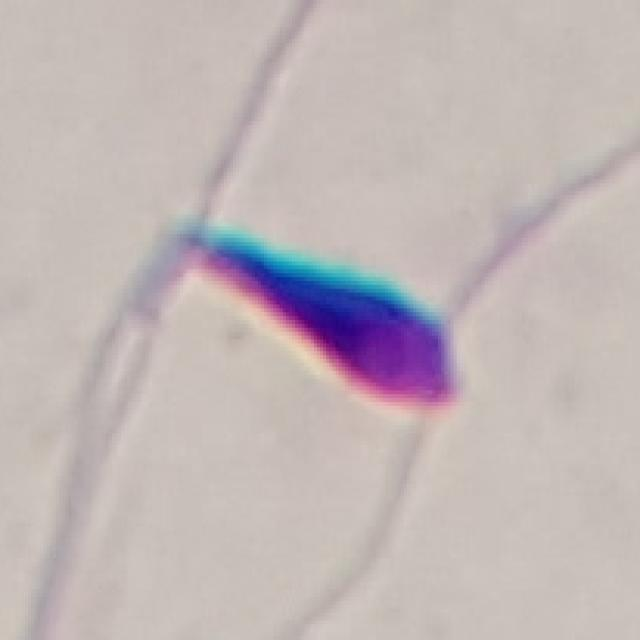abnormal sperm: (85, 137, 497, 497)
